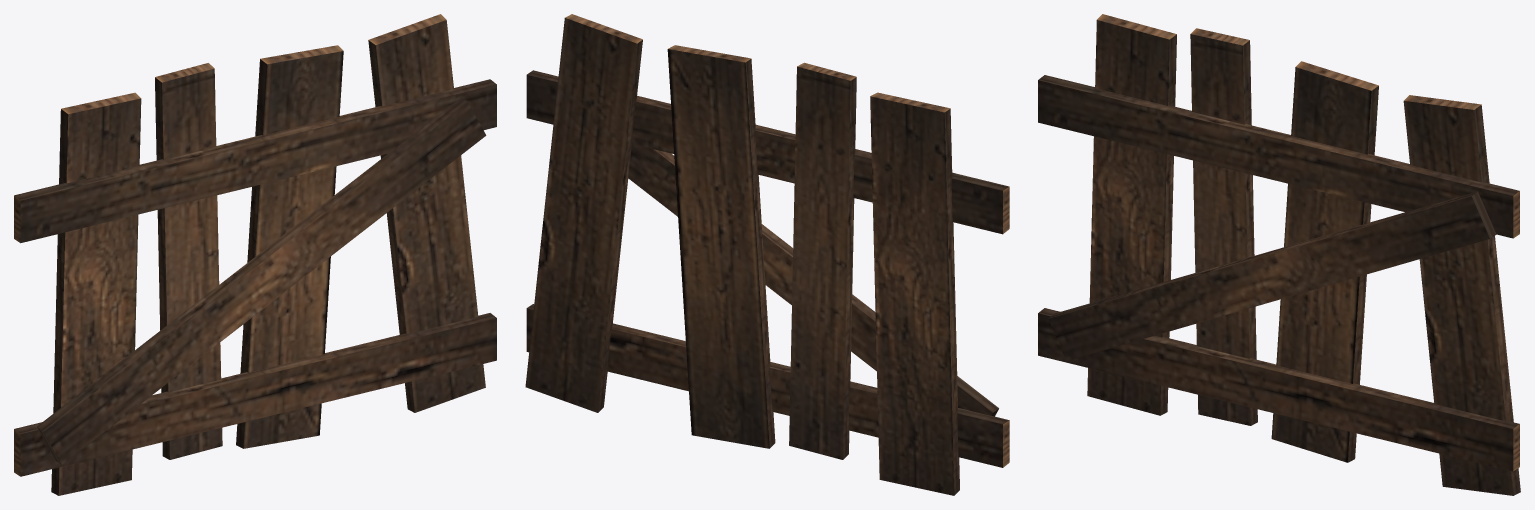
File: wood_fence_2.fbx
3 renders of one model, left to right at view 1: azimuth 30°, elevation 25°; view 2: azimuth 150°, elevation 25°; view 3: azimuth 330°, elevation 25°, orthographic.
Parts seen in each view (by area): view 1: wood_fence_2; view 2: wood_fence_2; view 3: wood_fence_2.
Part boxes in pixels (box(x1,y1,x2,y2)): wood_fence_2: box(14, 14, 496, 495); wood_fence_2: box(525, 14, 1009, 495); wood_fence_2: box(1038, 14, 1520, 495).
Size of the model in its own units: 3 by 2.38 by 0.2031.
